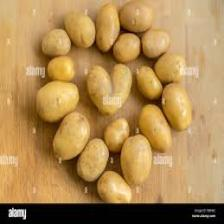Damaged potato: (88, 60, 132, 112)
Potato: (35, 80, 80, 124), (137, 104, 173, 154), (55, 112, 89, 163), (119, 134, 152, 184), (161, 82, 193, 132), (97, 166, 134, 204), (79, 134, 108, 182), (94, 3, 121, 54), (64, 9, 96, 50), (153, 48, 188, 84), (44, 52, 80, 82), (138, 24, 174, 54), (118, 1, 153, 31), (104, 117, 131, 153), (136, 66, 164, 100), (39, 28, 72, 55), (112, 32, 141, 62)
